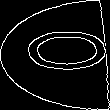O_E: (4, 32, 106, 78)
